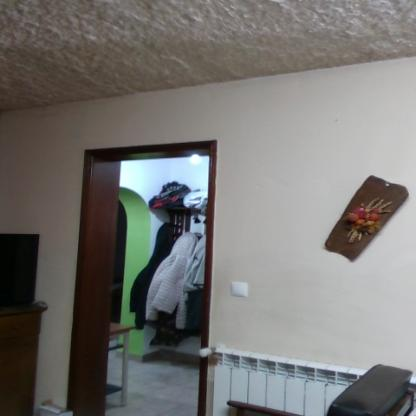open: (67, 126, 235, 407)
